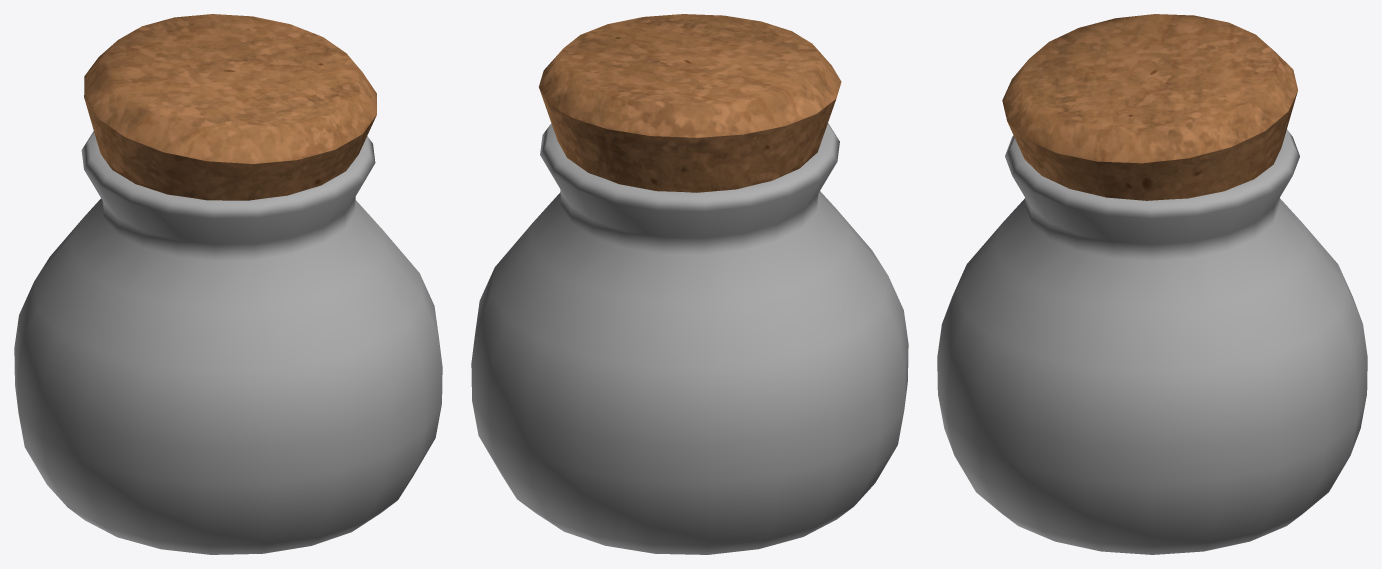
The model's file is SM_Potion_Props_Bottle_Big_01_B.fbx.
The picture shows the model from 3 angles, left to right: view 1: azimuth 30°, elevation 25°; view 2: azimuth 150°, elevation 25°; view 3: azimuth 270°, elevation 25°; orthographic projection. The views are drawn at different scales.
Parts seen in each view (by area): view 1: SM_Potion_Props_Bottle_Big_01_B_LOD0; view 2: SM_Potion_Props_Bottle_Big_01_B_LOD0; view 3: SM_Potion_Props_Bottle_Big_01_B_LOD0.
Boxes of the visible parts, x1,y1,x2,y2 form: SM_Potion_Props_Bottle_Big_01_B_LOD0: (14, 14, 442, 554); SM_Potion_Props_Bottle_Big_01_B_LOD0: (471, 14, 908, 554); SM_Potion_Props_Bottle_Big_01_B_LOD0: (937, 14, 1367, 554).
Size of what is drawn, in the model's own units: 23.16 by 25.28 by 23.16.
